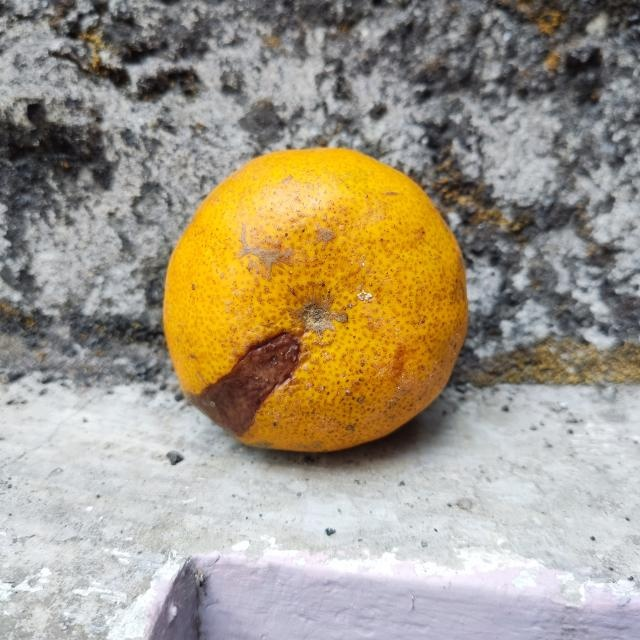agrume: (161, 148, 467, 452)
